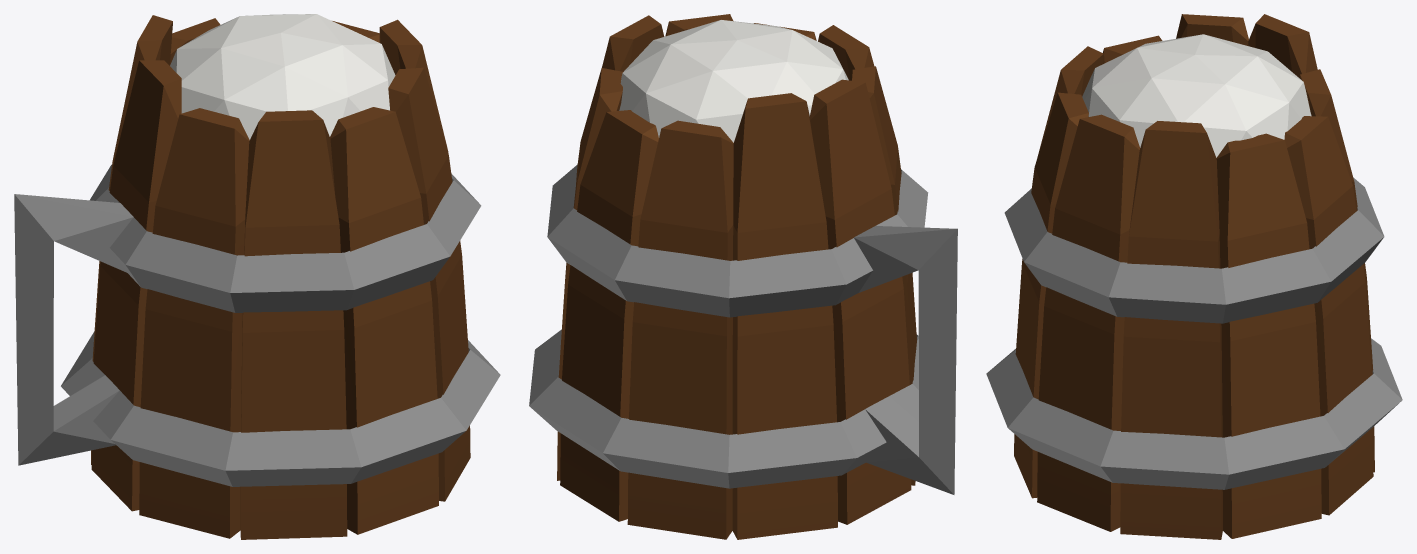
File: mug.glb
3 views of the same model, side by side, from view 1: azimuth 30°, elevation 25°; view 2: azimuth 150°, elevation 25°; view 3: azimuth 270°, elevation 25° (orthographic). The views are drawn at different scales.
Visible parts, largest first — view 1: mug 1; view 2: mug 1; view 3: mug 1.
Part boxes in pixels (<box>): mug 1: <box>14,14,500,539</box>; mug 1: <box>529,14,957,539</box>; mug 1: <box>986,14,1402,539</box>.
Bounding box in the file's own units: 0.4639 × 0.4381 × 0.404.
